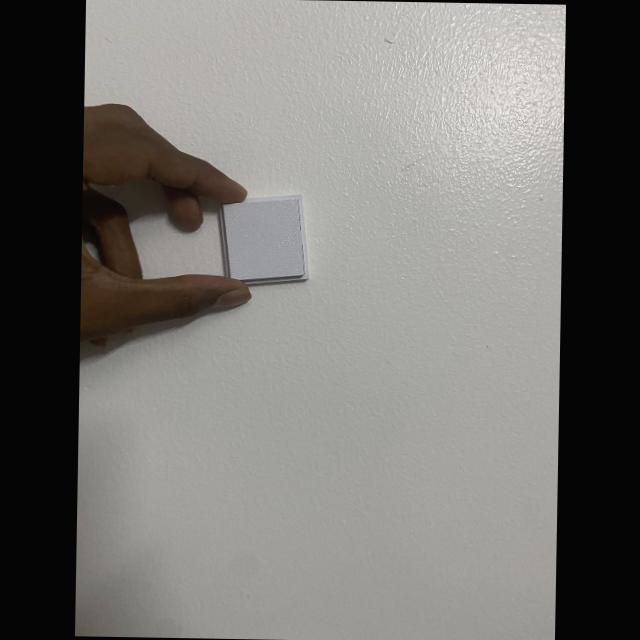RASPBERY PI CAM ENCLOSURE: (217, 192, 310, 286)
